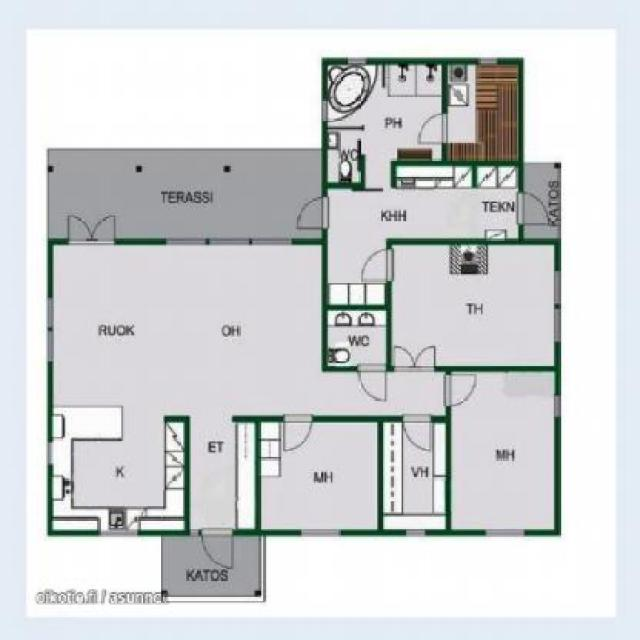door: (66, 211, 117, 252), (515, 191, 554, 232), (358, 243, 397, 283), (200, 528, 234, 570), (294, 195, 332, 232), (401, 412, 434, 454), (442, 372, 478, 410), (357, 362, 388, 404), (281, 415, 314, 454), (416, 112, 450, 148), (392, 346, 438, 372)
window: (246, 235, 292, 251), (166, 236, 208, 250), (551, 308, 566, 346), (300, 528, 342, 540), (208, 237, 252, 248), (551, 270, 563, 308), (482, 531, 528, 540), (46, 295, 56, 334), (550, 392, 564, 418), (403, 529, 426, 543), (98, 529, 140, 534), (48, 329, 54, 363)
zone: (54, 246, 446, 531), (326, 157, 522, 306), (48, 149, 320, 237), (451, 370, 554, 528), (326, 66, 448, 186), (261, 422, 377, 529), (446, 65, 522, 160), (383, 425, 448, 529), (163, 534, 259, 594)
